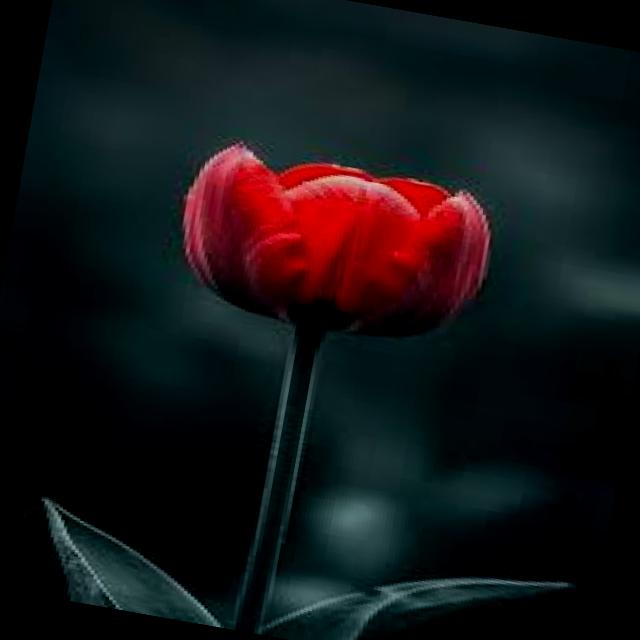tulip: (116, 91, 556, 403)
